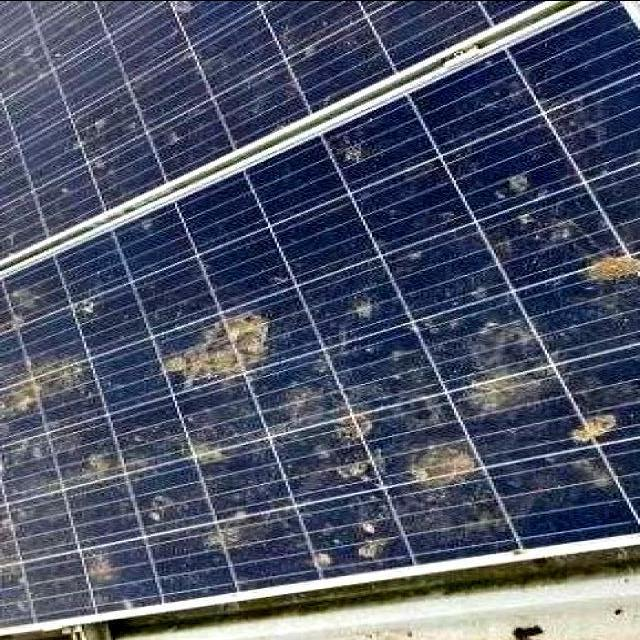soiled: (1, 9, 640, 625)
